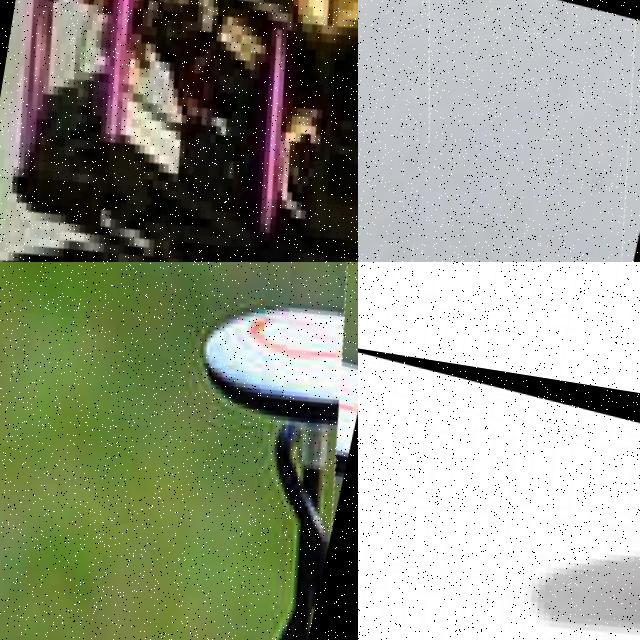drone: (0, 262, 358, 640), (0, 0, 358, 262), (358, 342, 640, 640), (358, 0, 640, 262)
